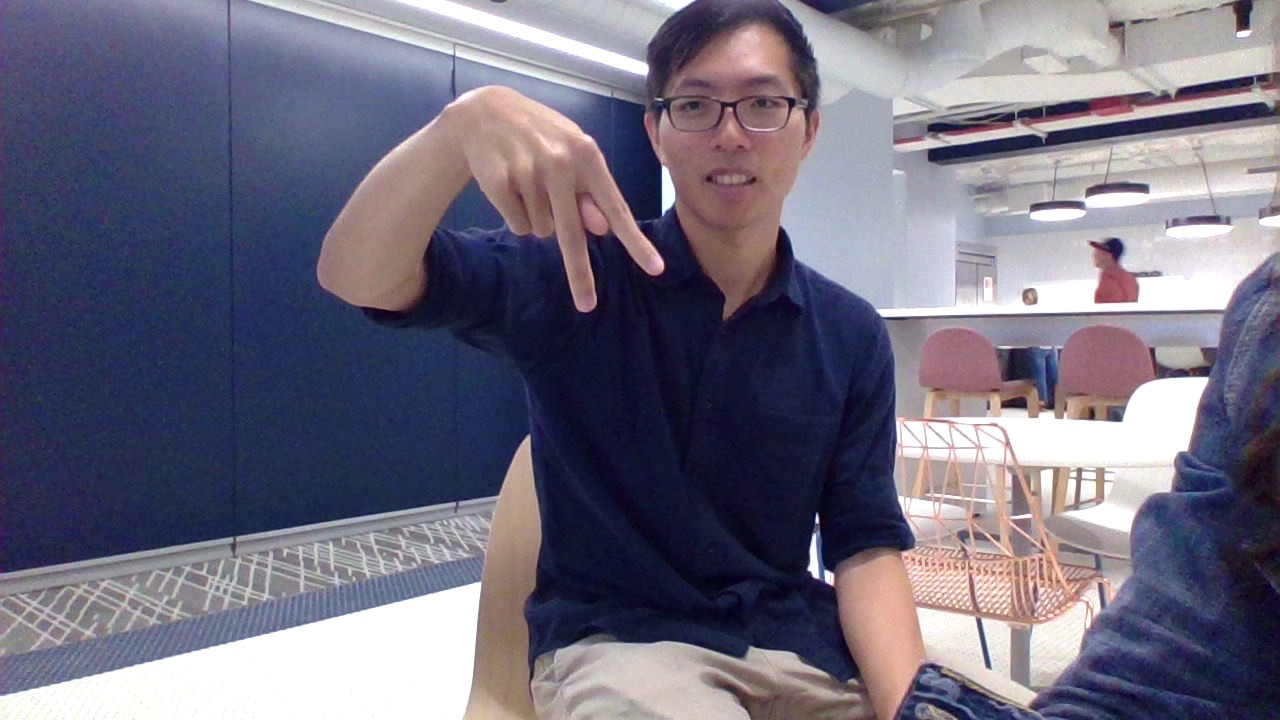p: (445, 71, 678, 334)
